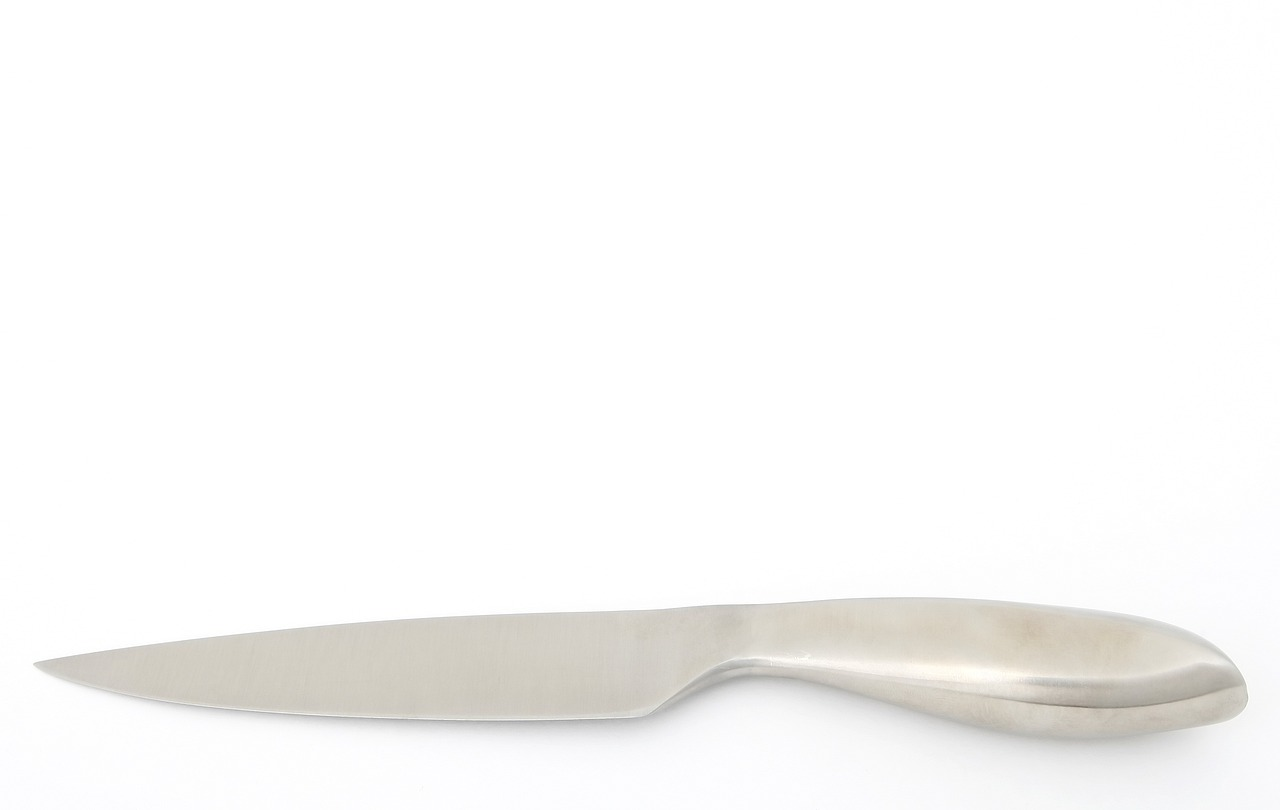knife: (16, 594, 1255, 738)
